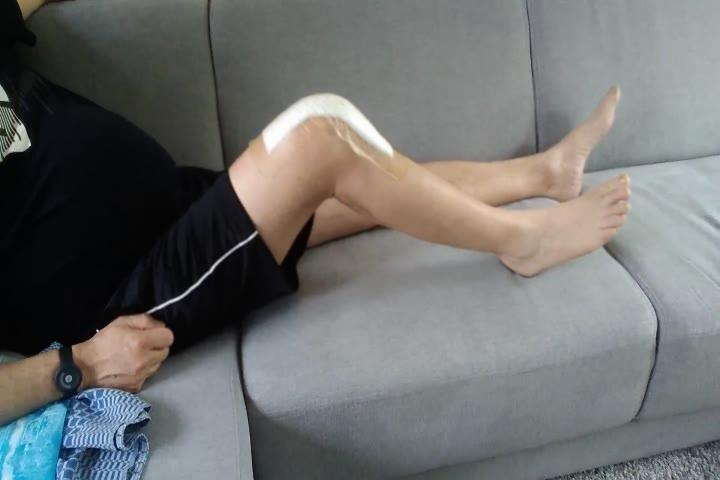lower_body: (112, 78, 638, 372)
